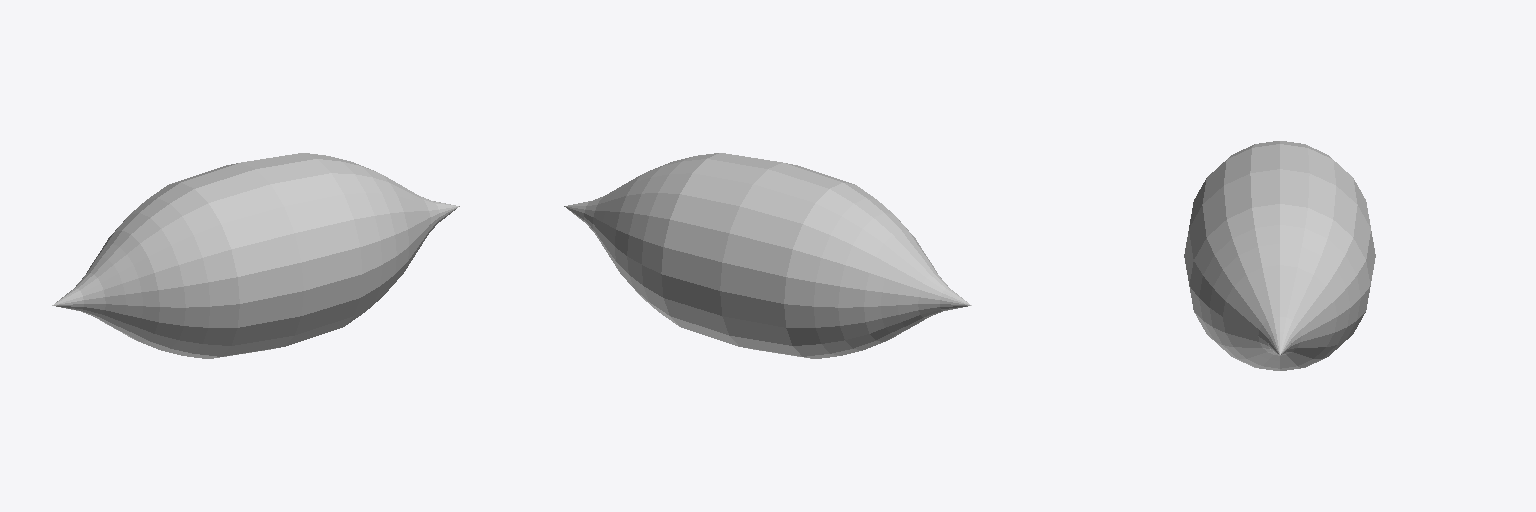
The model's file is AirshipBalloon.obj.
The picture shows the model from 3 angles: view 1: azimuth 30°, elevation 25°; view 2: azimuth 150°, elevation 25°; view 3: azimuth 270°, elevation 25°; orthographic projection.
Parts seen in each view (by area): view 1: BaloonBody1 Baloon1 AirShipBasket1; view 2: BaloonBody1 Baloon1 AirShipBasket1; view 3: BaloonBody1 Baloon1 AirShipBasket1.
Boxes of the visible parts, x1=… form: BaloonBody1 Baloon1 AirShipBasket1: x1=52, y1=153, x2=459, y2=358; BaloonBody1 Baloon1 AirShipBasket1: x1=564, y1=153, x2=971, y2=358; BaloonBody1 Baloon1 AirShipBasket1: x1=1184, y1=141, x2=1375, y2=370.
Size of the model in its own units: 104 by 42.41 by 42.41.